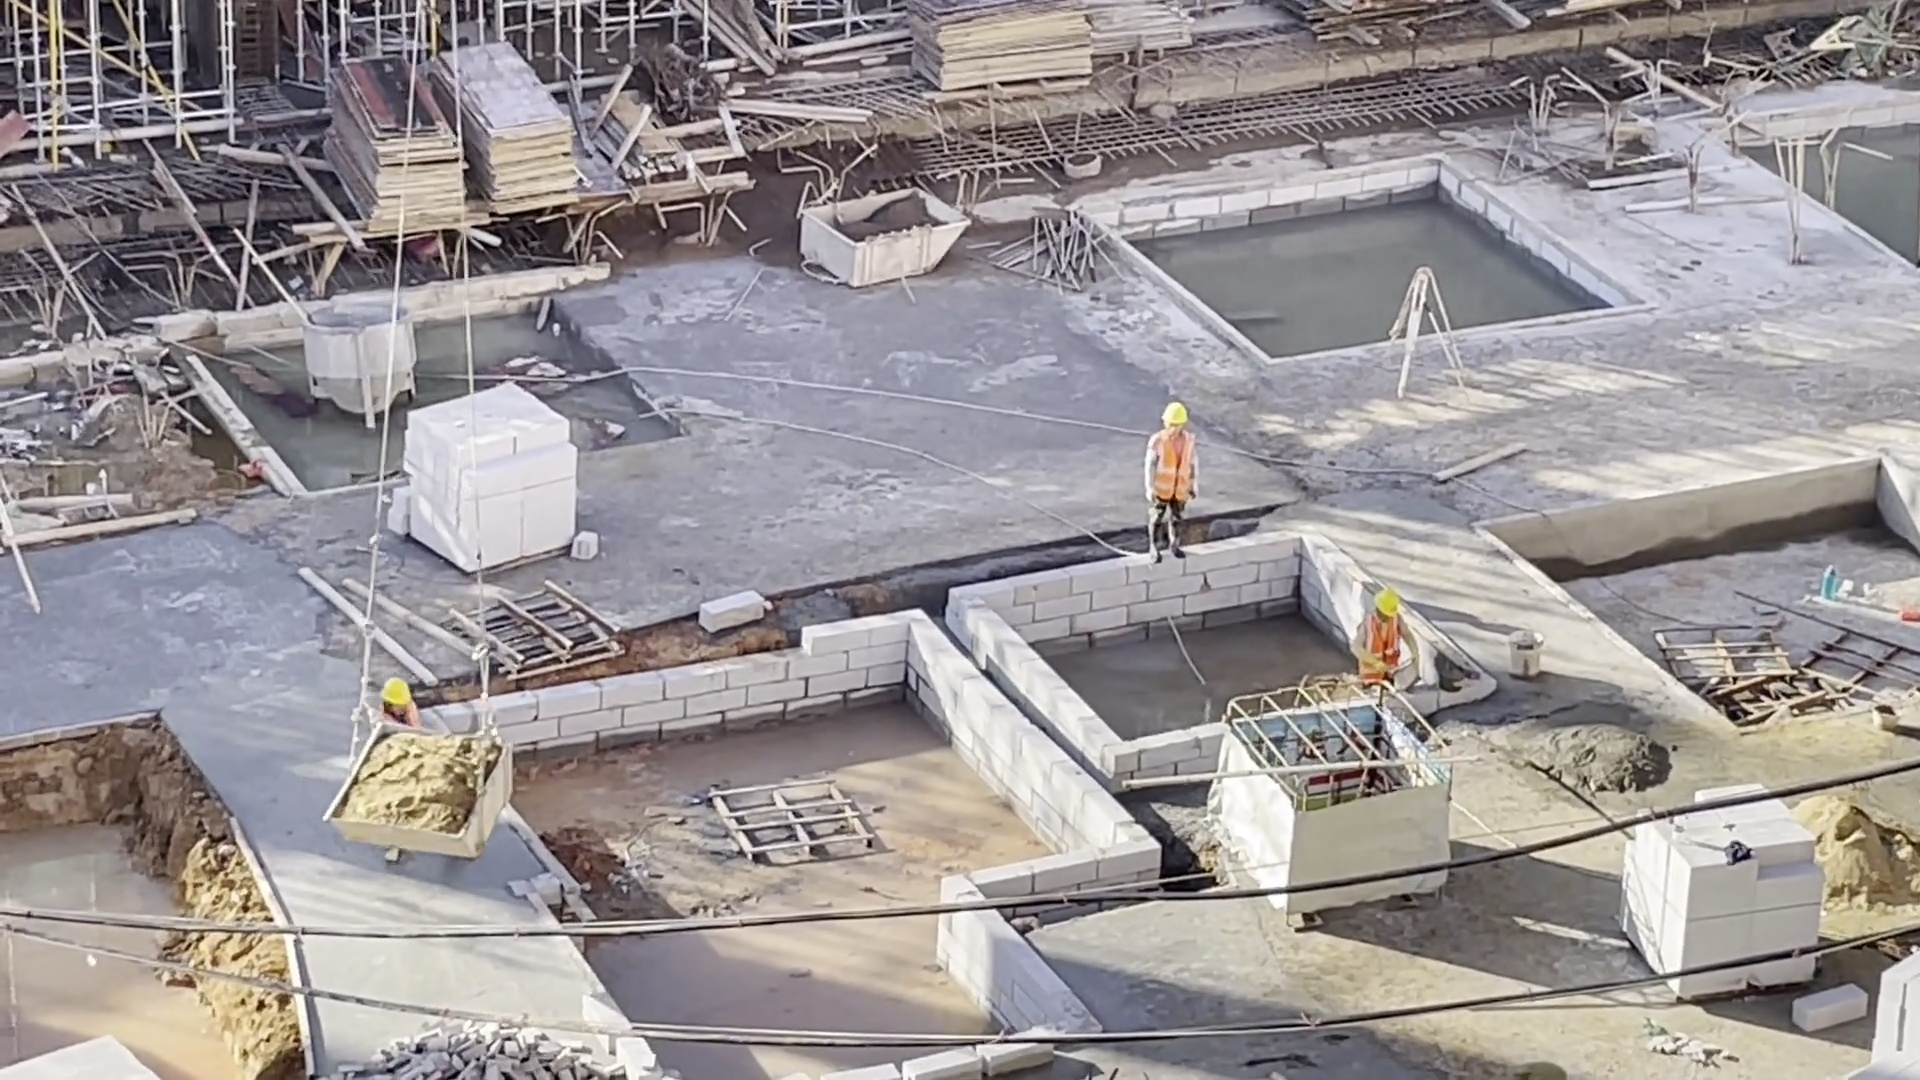board: (308, 54, 475, 232), (434, 42, 588, 217), (893, 4, 1100, 106)
brick: (393, 378, 573, 571), (1616, 835, 1830, 952)
helmet: (379, 678, 418, 710), (1368, 585, 1402, 616), (1159, 400, 1191, 427)
hopper: (310, 715, 519, 863), (799, 180, 980, 295), (302, 298, 417, 430)
person: (1139, 397, 1210, 564), (1348, 587, 1427, 691)
vest: (1148, 429, 1196, 503), (1358, 613, 1402, 678)
